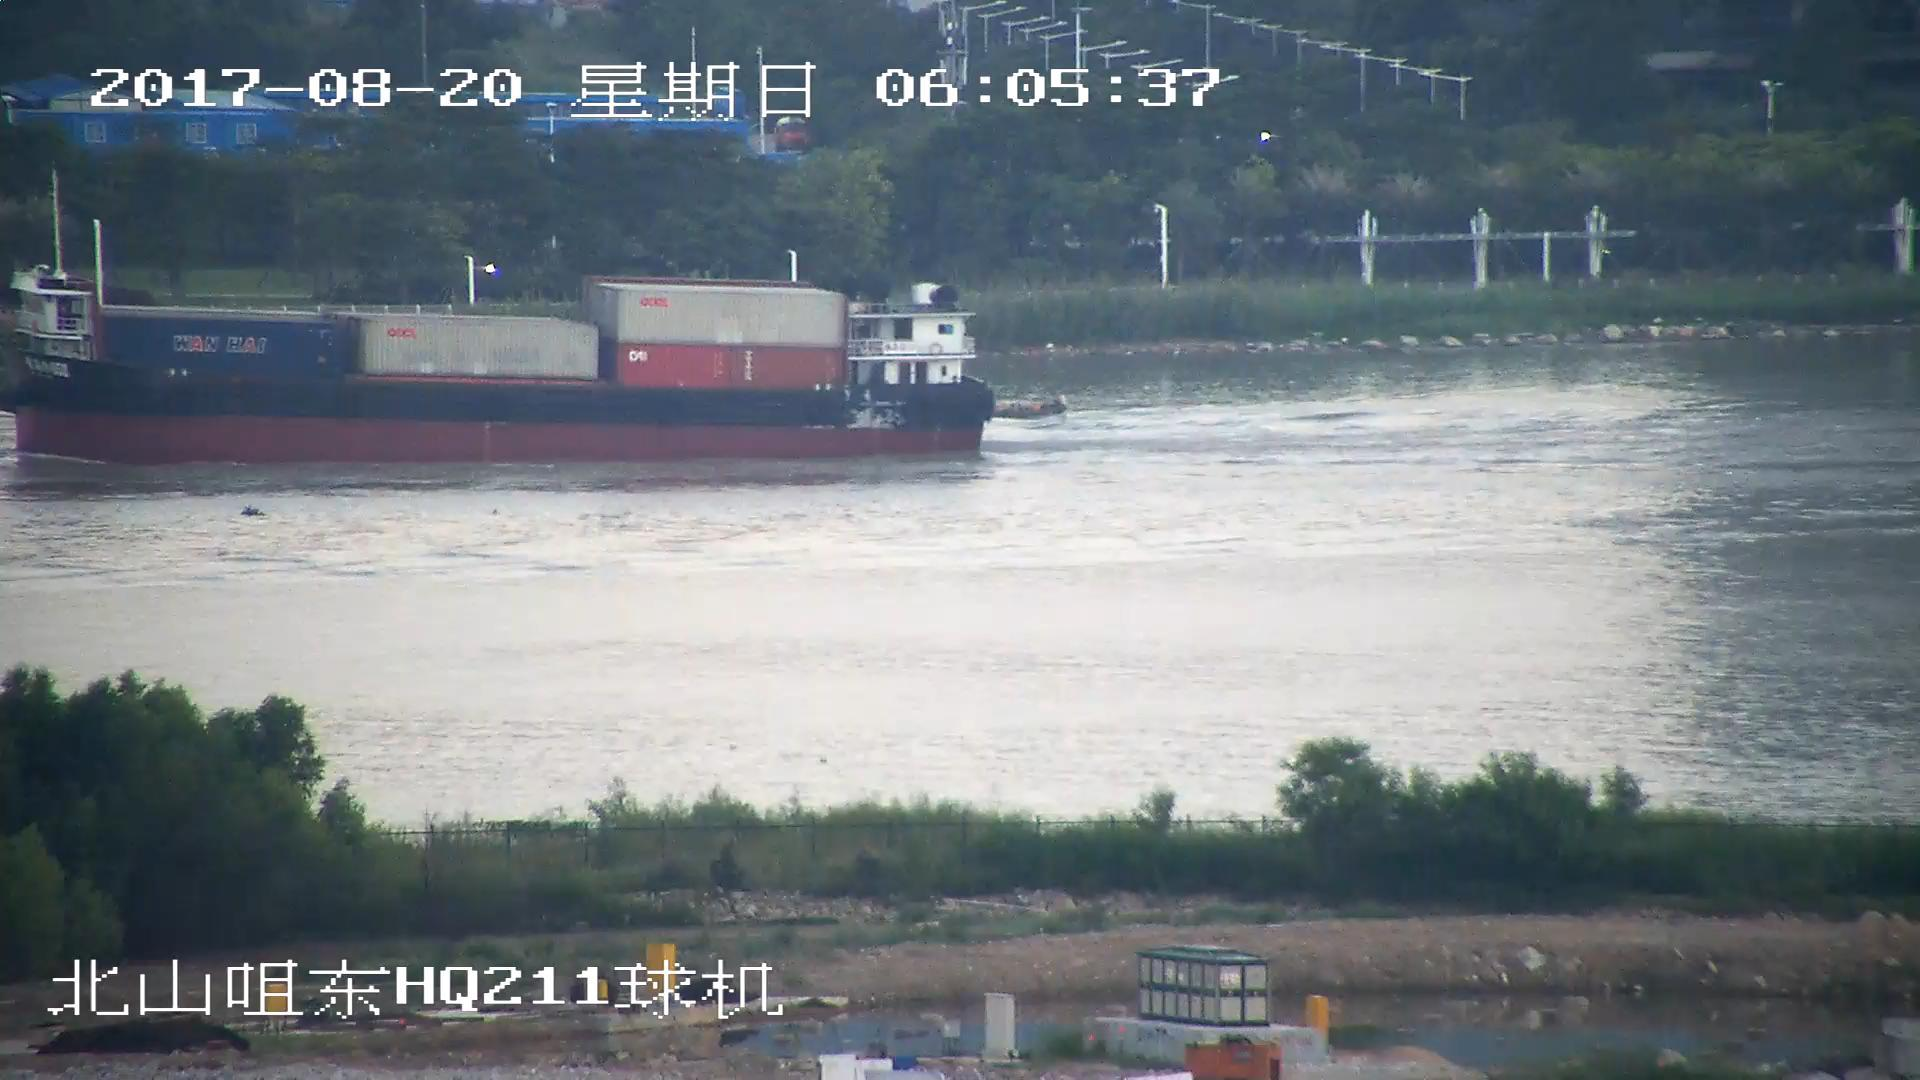Ship: (3, 178, 994, 464)
